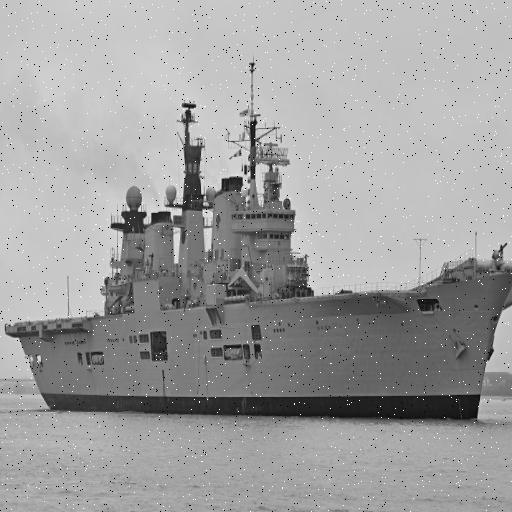Portanaves: (4, 55, 512, 416)
